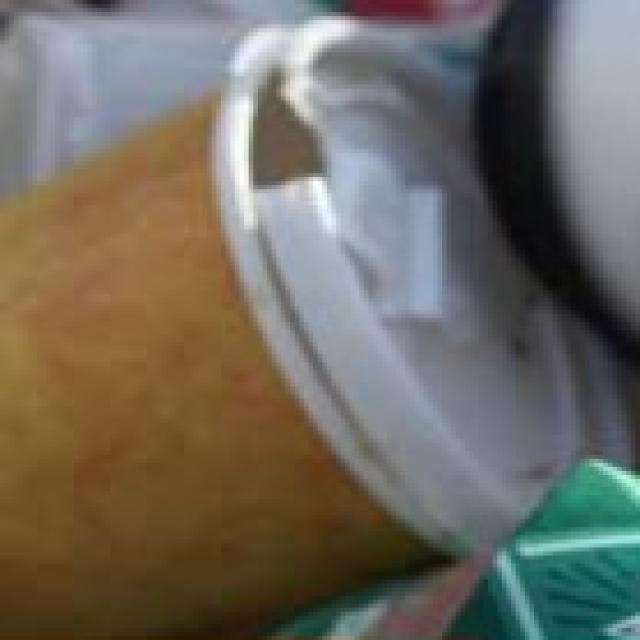plastic cup: (20, 0, 640, 636)
